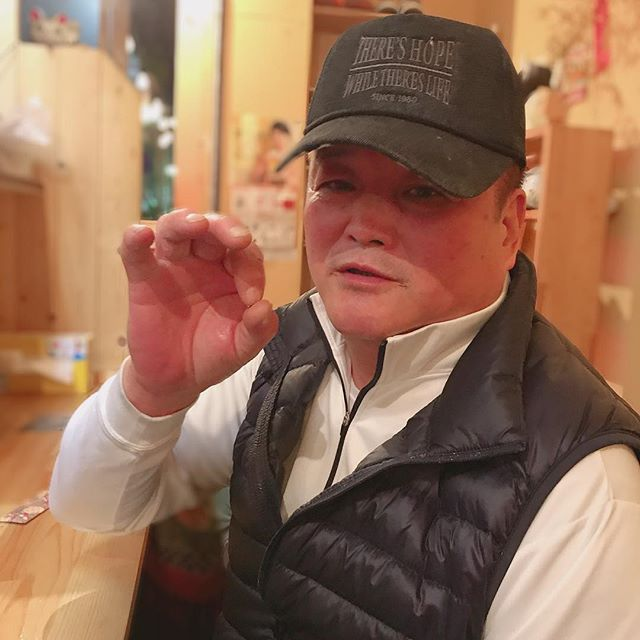face: (304, 142, 527, 335)
hand: (117, 209, 279, 393)
